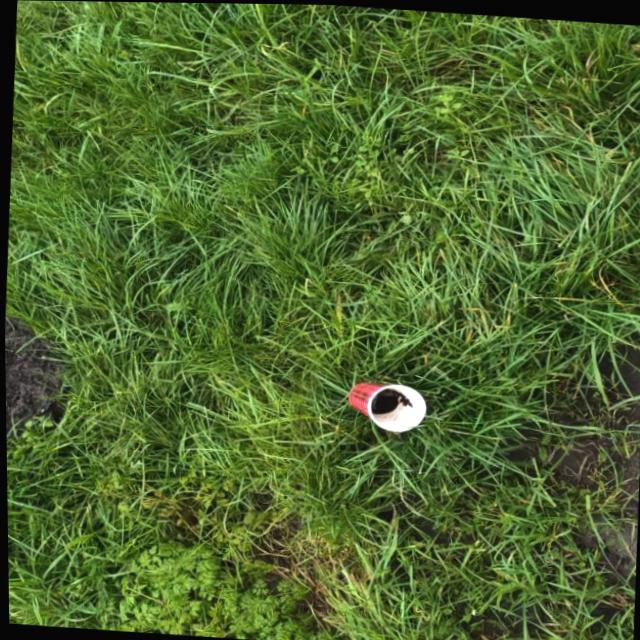Cup: (341, 378, 427, 433)
